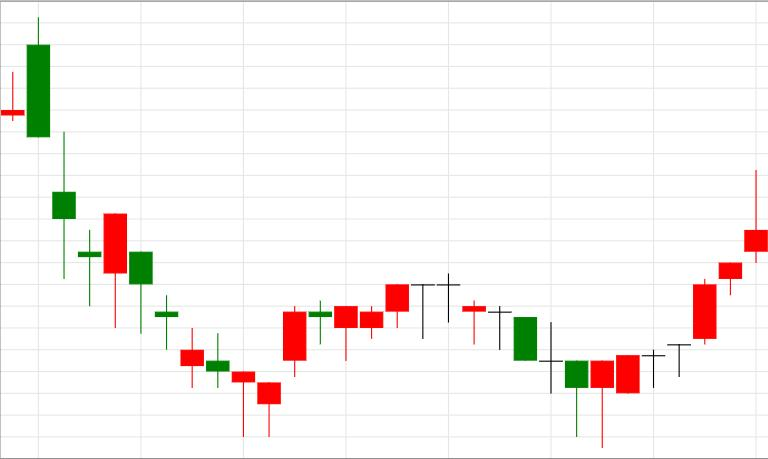hammer_rise: (436, 273, 613, 448), (437, 274, 588, 437)
shooting_star_fall: (591, 171, 768, 449)
